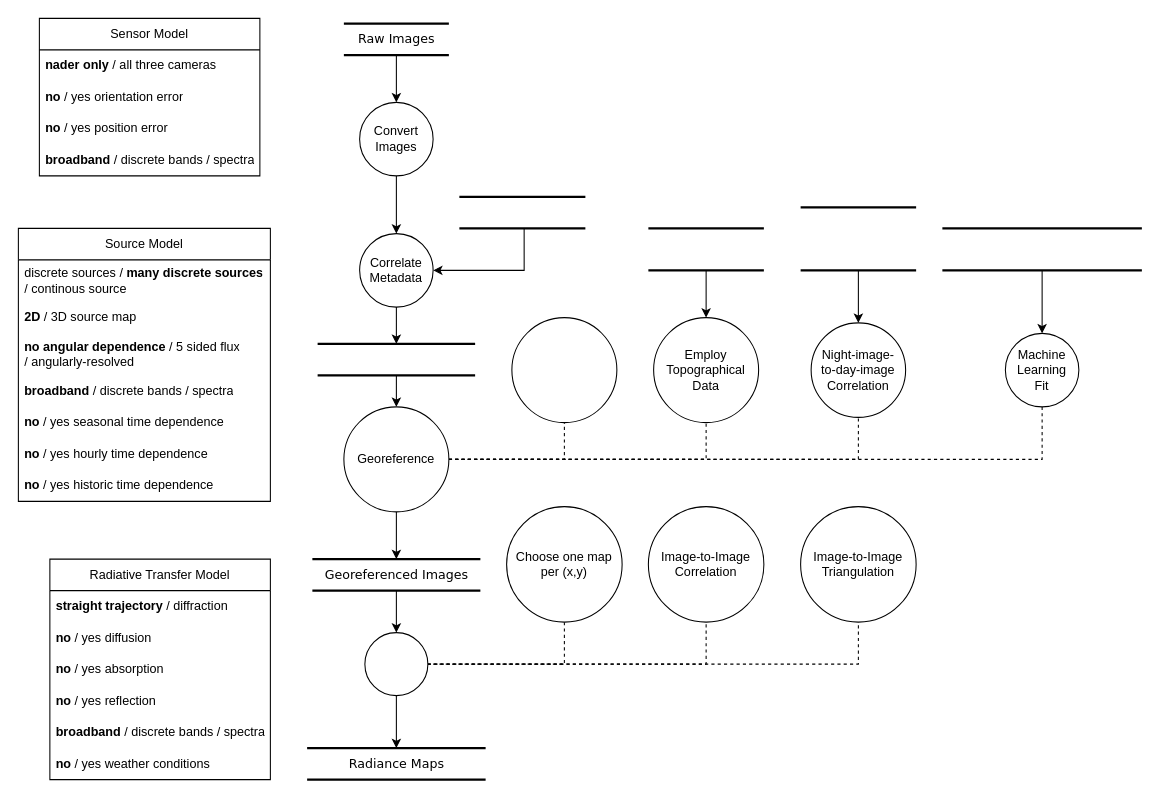
Image size: 1161x799. Some labels were removed from this diagram. The centre of each missing label's shape, as x and y in pixels:
"Daytime Georeferenced Images" goes at point 858,238.
"Flat-ground Approximation" goes at point 564,370.
"Flight Metadata" goes at point 522,212.
"Mosaic" goes at point 396,664.
"Successfully-georeferenced Images" goes at point 1041,249.
"Topographical Data" goes at point 705,249.
"Unreferenced Images" goes at point 396,359.
